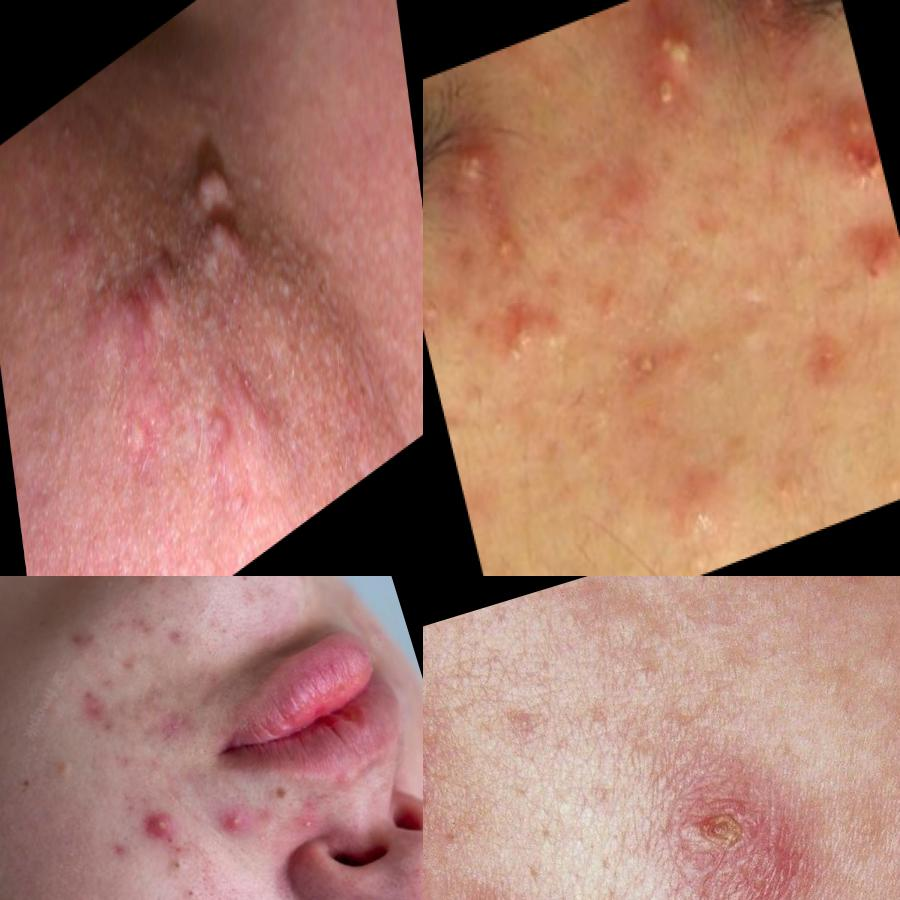blackhead: (160, 848, 198, 877), (189, 598, 220, 630), (176, 876, 215, 900), (231, 577, 259, 589)
cystic: (424, 700, 461, 900)
keloid: (104, 229, 185, 386), (184, 124, 251, 310), (212, 328, 276, 497)
papular: (664, 465, 715, 537), (851, 236, 900, 310), (73, 682, 119, 739), (63, 625, 98, 658), (104, 837, 133, 868), (163, 625, 195, 651), (151, 603, 177, 632)
purulent: (636, 70, 700, 134), (480, 216, 532, 284), (137, 803, 190, 855), (212, 800, 258, 843), (744, 1, 797, 27), (293, 807, 325, 843)
sebo-crystan-conglo: (824, 91, 890, 219), (630, 1, 715, 84), (444, 132, 510, 220), (619, 333, 667, 403)
whitehead: (709, 246, 786, 372), (487, 296, 575, 384)
